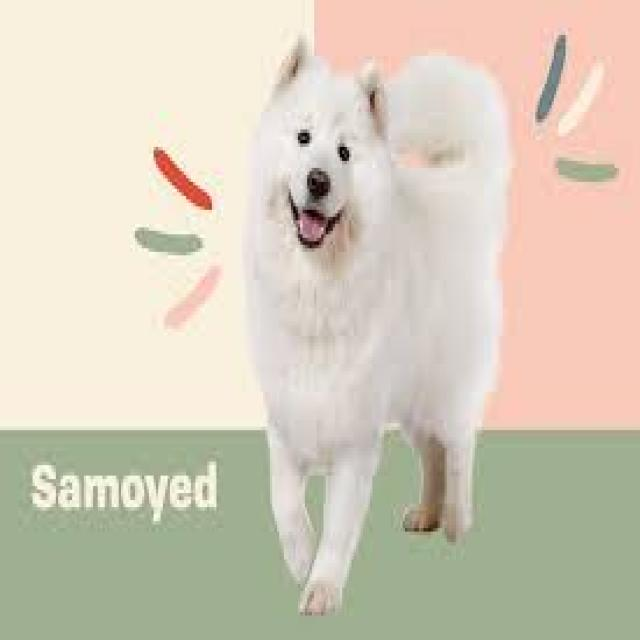dogs: (241, 30, 520, 616)
